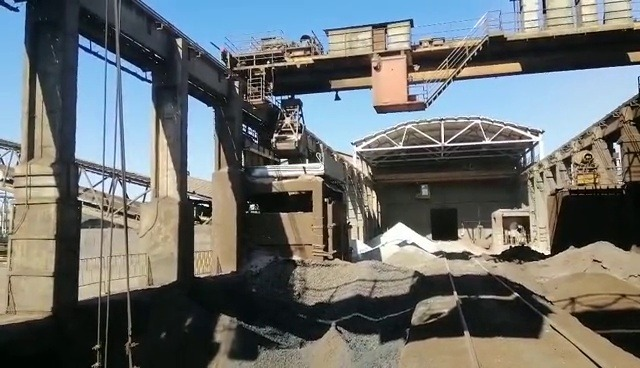grab: (267, 92, 307, 150)
